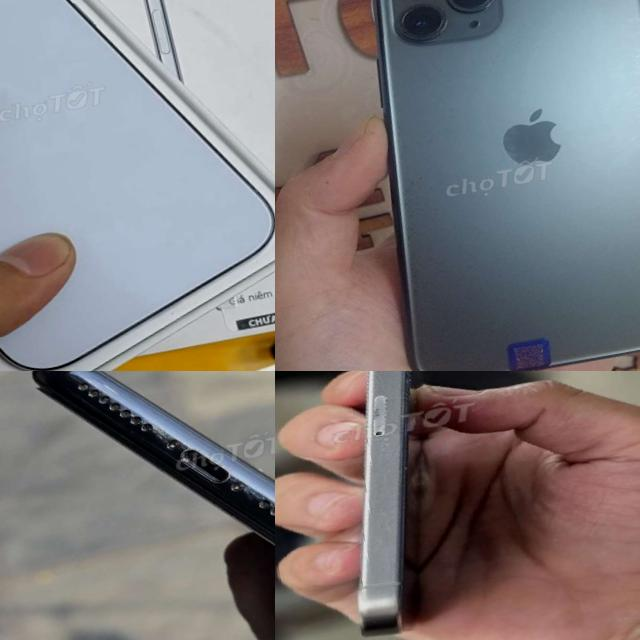gen_11: (322, 0, 640, 371), (21, 371, 275, 640)
gen_15: (284, 371, 488, 640)
gen_17: (0, 0, 275, 371)
